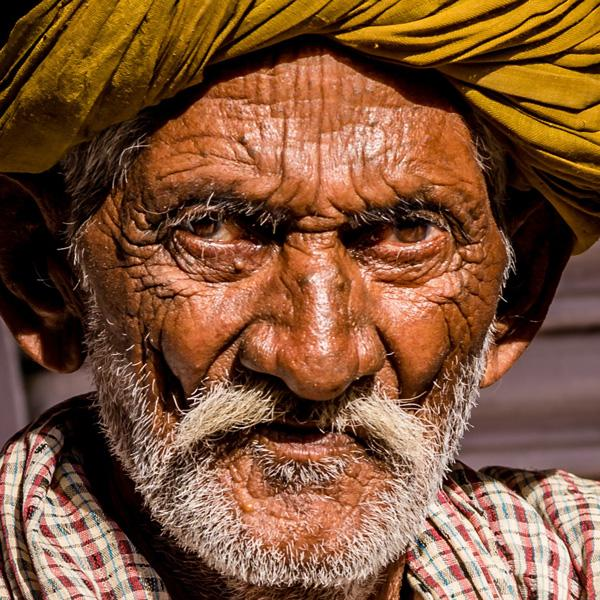Eyes: (344, 198, 461, 269), (161, 196, 278, 263)
